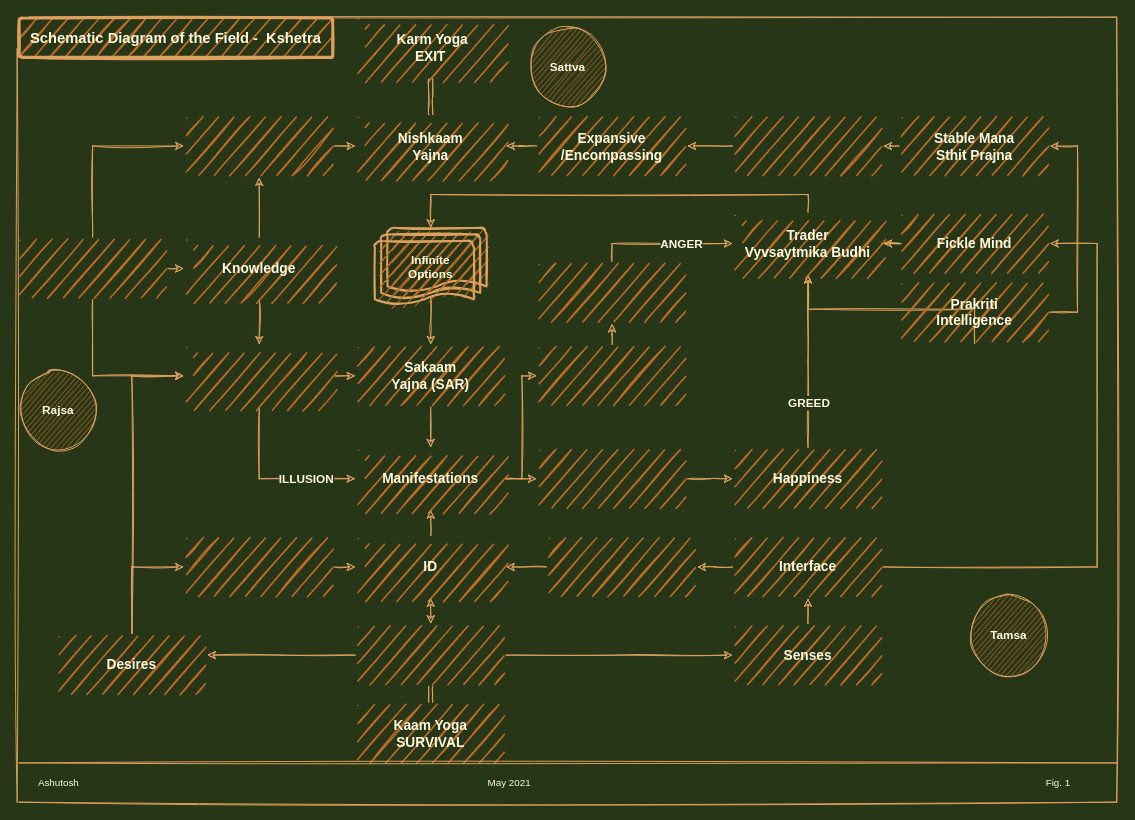
Image size: 1135x820. Some labels were removed from this diagram. The shapes that lost their labels are listed below. From the top down, each one's centre as x and y in pixels, then its label:
At (x=258, y=145): "Nishkaam Karma".
At (x=807, y=145): "Stable Samttva Buddhi".
At (x=92, y=268): "Atma".
At (x=611, y=292): "Pain".
At (x=258, y=375): "Sakaam Karma".
At (x=611, y=375): "Unfavorable Outcomes".
At (x=611, y=478): "Favorable Outcomes".
At (x=258, y=566): "Ego".
At (x=621, y=566): "Duality".
At (x=430, y=654): "Matrix".
